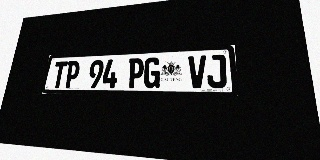4: (101, 59, 119, 88)
9: (87, 60, 104, 88)
G: (143, 57, 161, 88)
J: (207, 54, 227, 88)
P: (127, 58, 144, 88), (64, 61, 81, 88)
T: (51, 61, 68, 88)
V: (188, 55, 207, 88)
